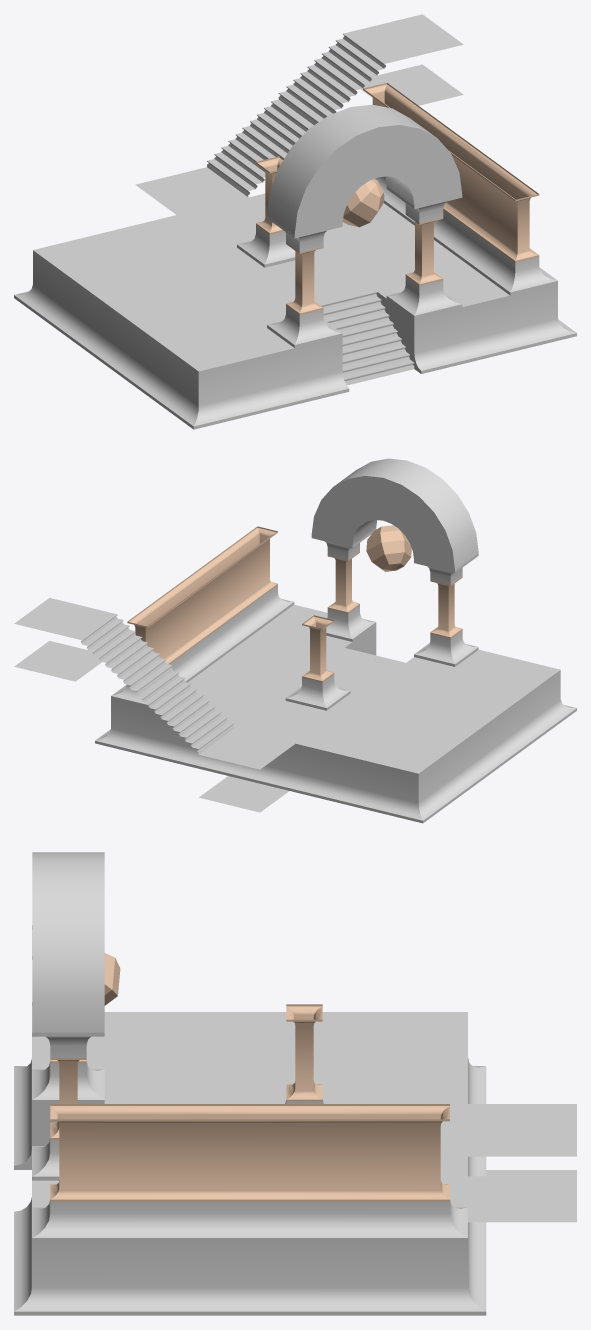
Rendered from map.fbx.
The picture shows the model from 3 angles, top to bottom: view 1: azimuth 30°, elevation 25°; view 2: azimuth 150°, elevation 25°; view 3: azimuth 270°, elevation 25°; orthographic projection. The views are drawn at different scales.
Visible parts, largest first — view 1: pCylinder16, pTorus1, polySurface52, polySurface36, pCube66, polySurface54, polySurface53, pCylinder31, pCube55, pCube59, pCube60, pCube61 (+23 smaller); view 2: pCylinder16, pTorus1, polySurface52, pCube66, pCube65, pCylinder31, polySurface53, polySurface54, pCube54, pCube58, pCube59, pCube62 (+23 smaller); view 3: pCylinder16, polySurface52, pCylinder31, pTorus1, pCube66, pCube57, pCube58, pCube61, pCube62, pCube60, pCube59, pCube64 (+11 smaller).
Part boxes in pixels (x1=…): pCylinder16: x1=14, y1=250, x2=576, y2=429; pTorus1: x1=267, y1=104, x2=462, y2=235; polySurface52: x1=363, y1=83, x2=539, y2=262; polySurface36: x1=316, y1=288, x2=414, y2=385; pCube66: x1=351, y1=14, x2=463, y2=105; polySurface54: x1=278, y1=32, x2=391, y2=125; polySurface53: x1=207, y1=99, x2=313, y2=196; pCylinder31: x1=375, y1=176, x2=557, y2=295; pCube55: x1=157, y1=324, x2=269, y2=371; pCube59: x1=147, y1=245, x2=259, y2=292; pCube60: x1=74, y1=263, x2=187, y2=310; pCube61: x1=105, y1=215, x2=217, y2=262; pCylinder16: x1=95, y1=670, x2=576, y2=823; pTorus1: x1=311, y1=458, x2=478, y2=570; polySurface52: x1=127, y1=526, x2=277, y2=664; pCube66: x1=14, y1=598, x2=110, y2=681; pCube65: x1=199, y1=728, x2=294, y2=812; pCylinder31: x1=111, y1=585, x2=294, y2=707; polySurface53: x1=137, y1=670, x2=233, y2=754; polySurface54: x1=76, y1=613, x2=172, y2=696; pCube54: x1=234, y1=702, x2=330, y2=743; pCube58: x1=428, y1=681, x2=524, y2=721; pCube59: x1=331, y1=692, x2=427, y2=732; pCube62: x1=357, y1=733, x2=453, y2=773; pCylinder16: x1=14, y1=1058, x2=486, y2=1315; polySurface52: x1=50, y1=1104, x2=449, y2=1201; pCylinder31: x1=32, y1=1199, x2=467, y2=1242; pTorus1: x1=32, y1=852, x2=104, y2=1032; pCube66: x1=468, y1=1110, x2=576, y2=1222; pCube57: x1=141, y1=1058, x2=249, y2=1103; pCube58: x1=141, y1=1012, x2=249, y2=1057; pCube61: x1=359, y1=1058, x2=467, y2=1103; pCube62: x1=359, y1=1012, x2=467, y2=1057; pCube60: x1=250, y1=1012, x2=358, y2=1057; pCube59: x1=250, y1=1058, x2=358, y2=1103; pCube64: x1=32, y1=1058, x2=140, y2=1145.
Size of the model in its own units: 18.5 by 10 by 15.5.
